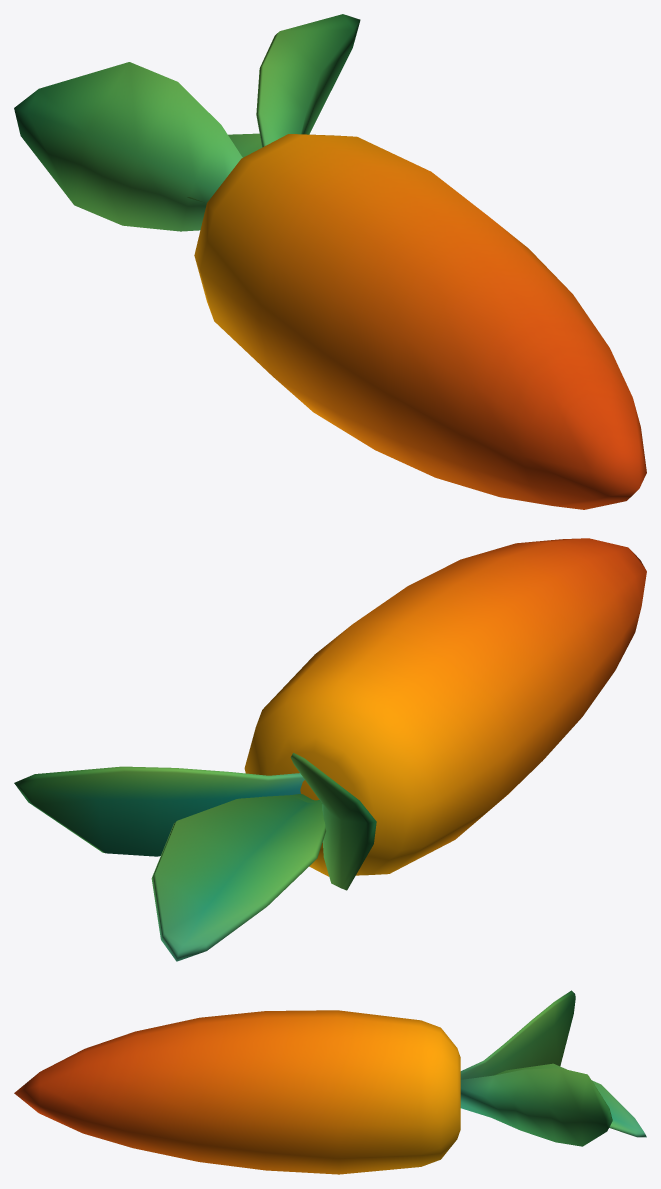
File: carrot_001.fbx
The picture shows the model from 3 angles, top to bottom: view 1: azimuth 30°, elevation 25°; view 2: azimuth 150°, elevation 25°; view 3: azimuth 270°, elevation 25°; orthographic projection. The views are drawn at different scales.
Parts seen in each view (by area): view 1: carrot_001; view 2: carrot_001; view 3: carrot_001.
Boxes of the visible parts, x1,y1,x2,y2 form: carrot_001: [14, 14, 646, 509]; carrot_001: [14, 538, 646, 961]; carrot_001: [14, 990, 646, 1174].
Size of the model in its own units: 9.73 by 23.23 by 6.13.
